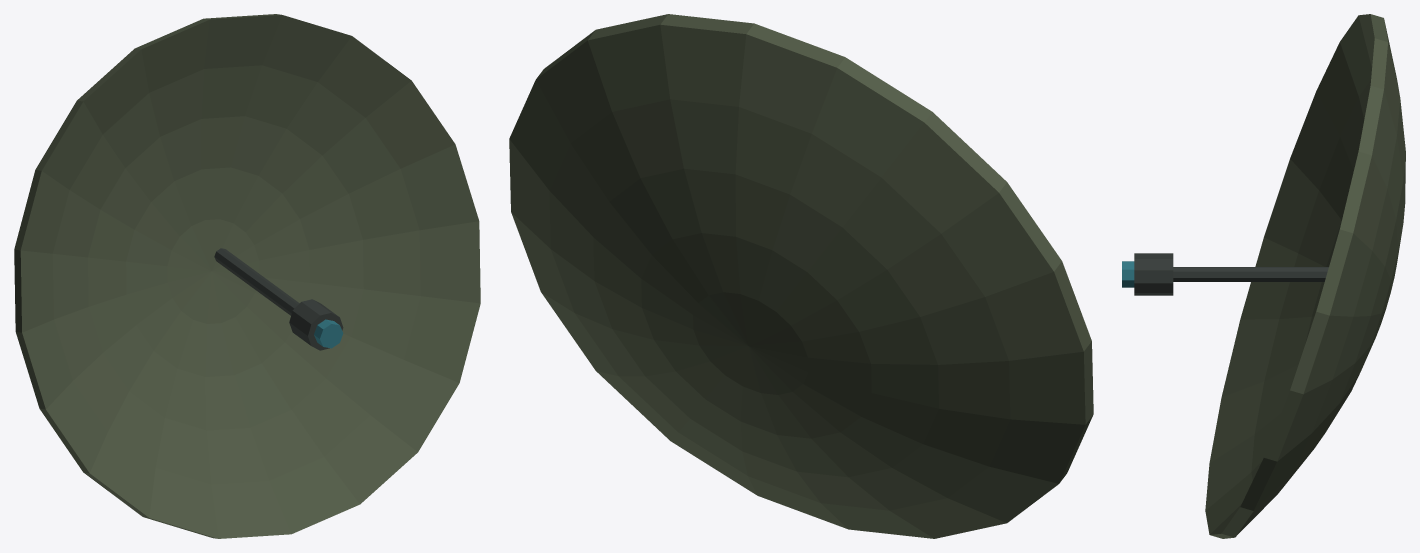
The model's file is Bastion_CommunicationsCenter_DishPitch.obj.
The picture shows the model from 3 angles, left to right: view 1: azimuth 30°, elevation 25°; view 2: azimuth 150°, elevation 25°; view 3: azimuth 270°, elevation 25°; orthographic projection. The views are drawn at different scales.
Parts seen in each view (by area): view 1: Bastion_CommunicationsCenter_DishPitch; view 2: Bastion_CommunicationsCenter_DishPitch; view 3: Bastion_CommunicationsCenter_DishPitch.
Boxes of the visible parts, x1,y1,x2,y2 form: Bastion_CommunicationsCenter_DishPitch: [14, 14, 480, 538]; Bastion_CommunicationsCenter_DishPitch: [509, 14, 1093, 538]; Bastion_CommunicationsCenter_DishPitch: [1122, 14, 1405, 538].
Bounding box in the file's own units: 3.1 × 2.97 × 1.61.
1 material, 1 textured.
